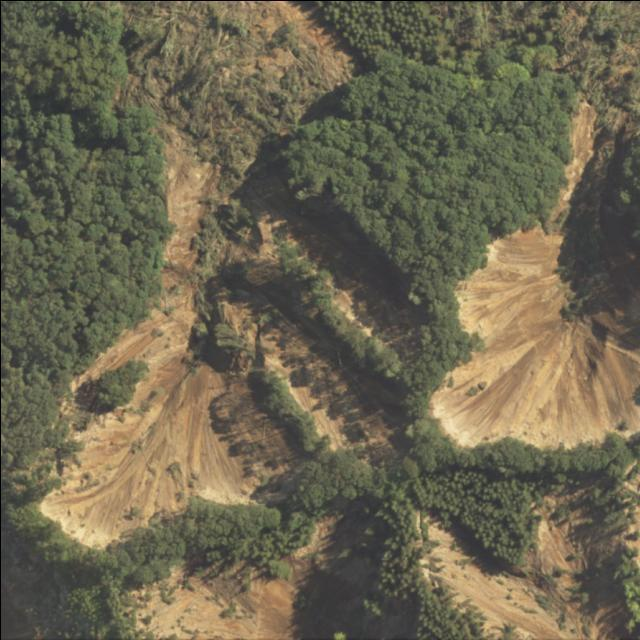landslide: (39, 125, 423, 546), (38, 141, 293, 547), (430, 227, 640, 447), (119, 0, 351, 197), (428, 461, 640, 640), (137, 507, 415, 640), (542, 98, 597, 232)
